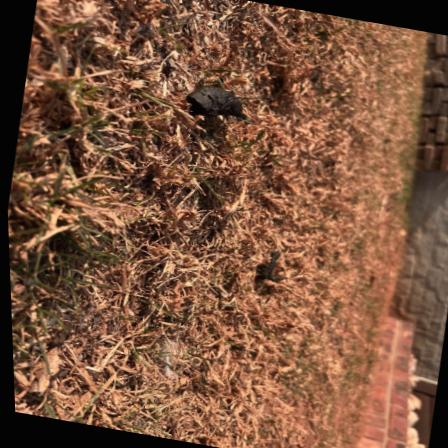dog-poop: (179, 71, 255, 130), (240, 240, 286, 290)
